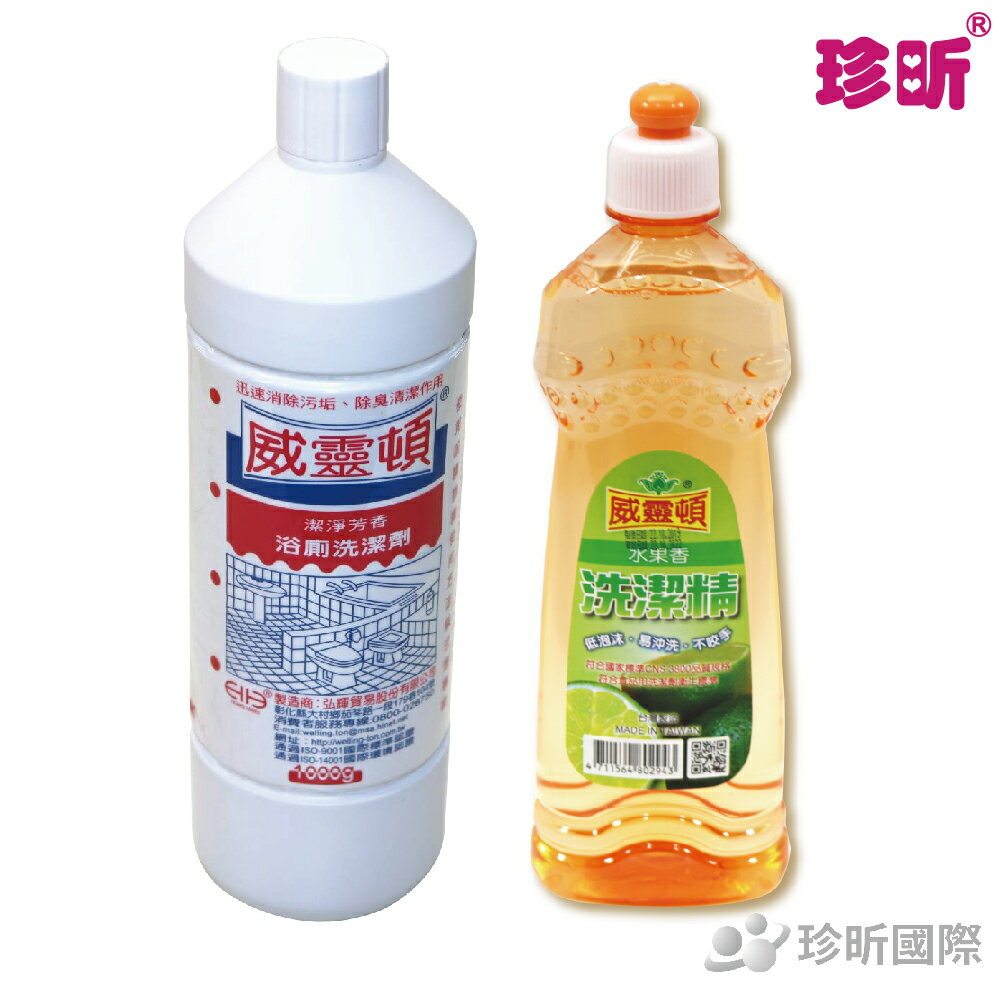cleaner: (169, 39, 481, 927), (516, 81, 811, 915)
